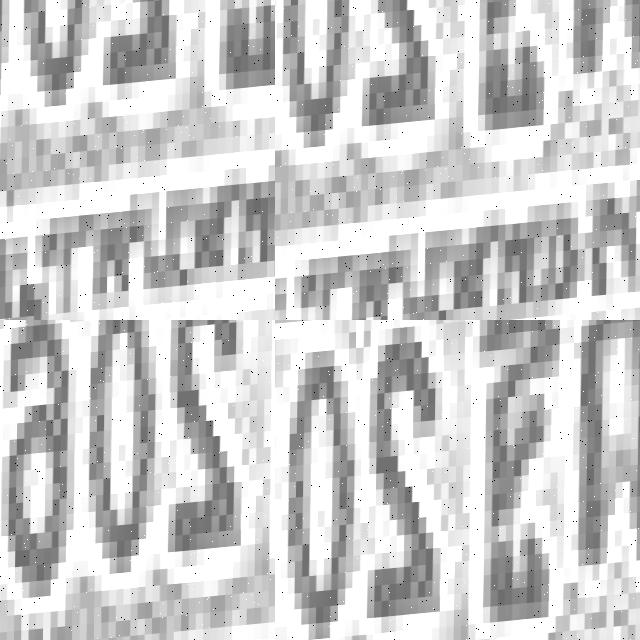license-plate: (275, 320, 640, 640), (0, 0, 275, 320), (0, 320, 275, 640)
